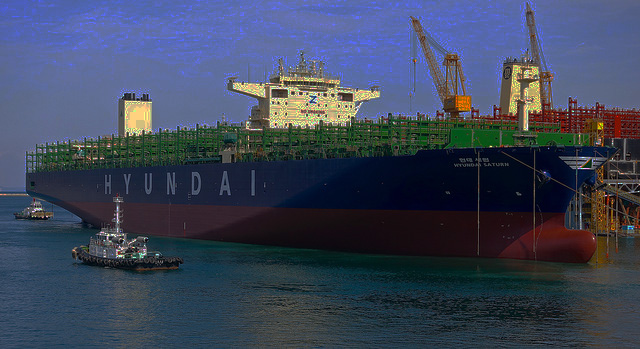container_ship: (26, 53, 612, 264)
tug_boat: (70, 192, 184, 272), (10, 191, 53, 220)
